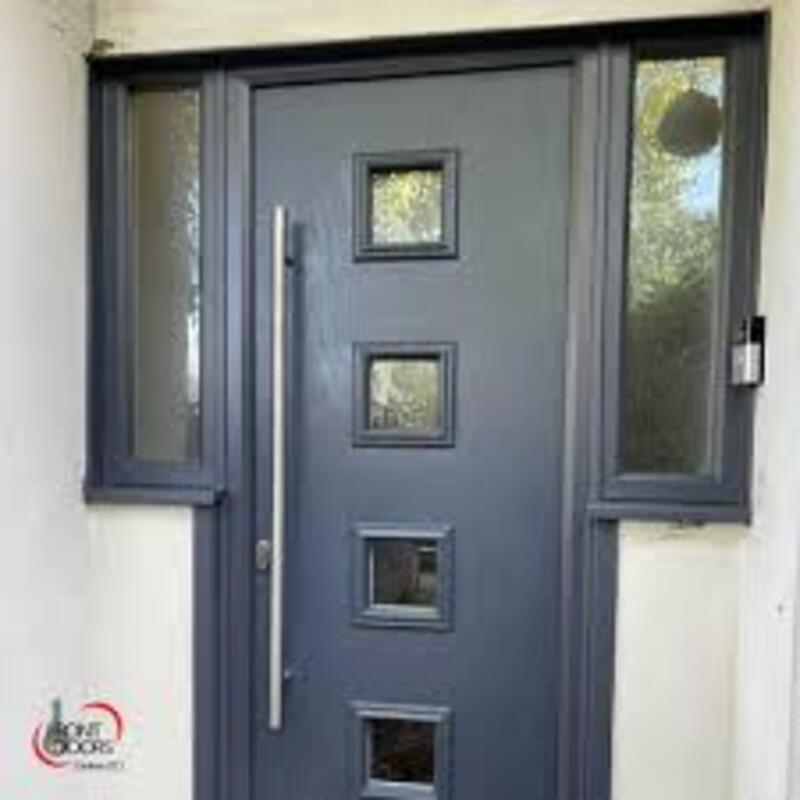doorbell: (724, 308, 765, 392)
